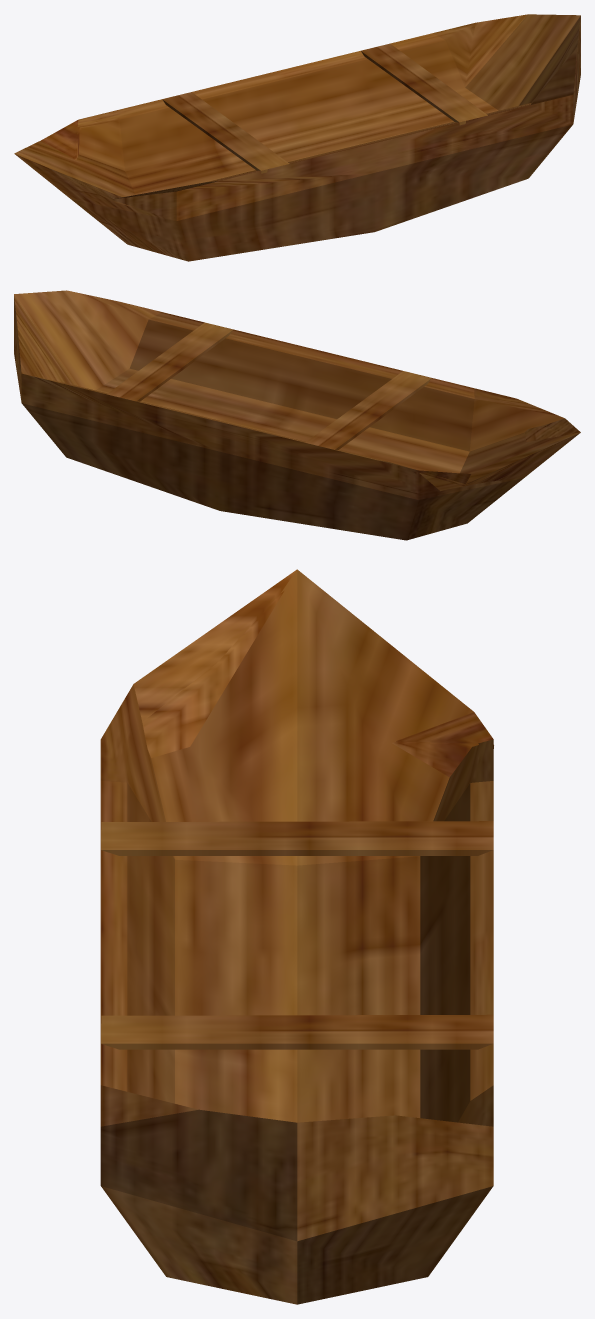
The model's file is WoodenBoat.fbx.
The picture shows the model from 3 angles, top to bottom: view 1: azimuth 30°, elevation 25°; view 2: azimuth 150°, elevation 25°; view 3: azimuth 270°, elevation 25°; orthographic projection. The views are drawn at different scales.
Visible parts, largest first — view 1: Boat; view 2: Boat; view 3: Boat.
Boxes of the visible parts, x1,y1,x2,y2 form: Boat: [14, 14, 580, 261]; Boat: [14, 290, 580, 540]; Boat: [100, 569, 493, 1304].
Bounding box in the file's own units: 2000 × 400 × 601.
